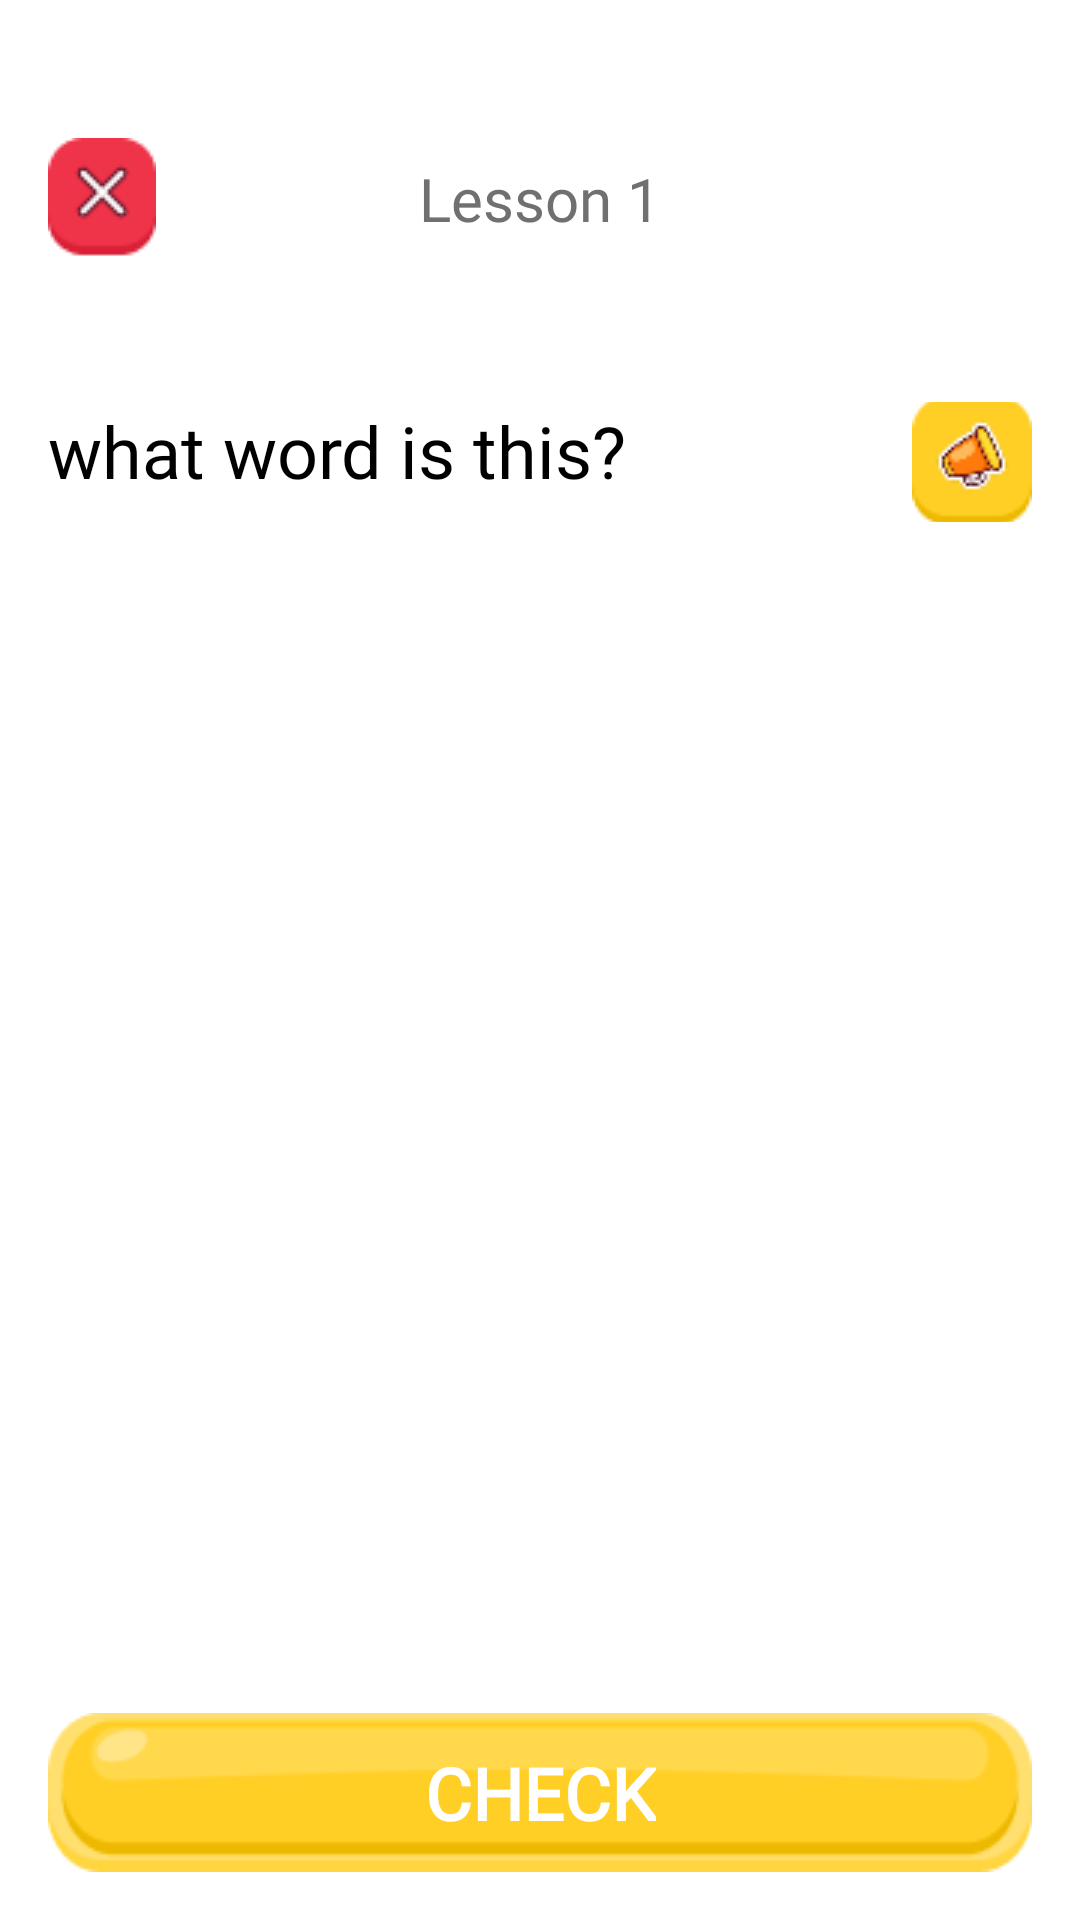

Point at icon controls on the screen. Image size 1080w x 1920h, points as [x,y].
close: [102,197]
speaker: [972,462]
